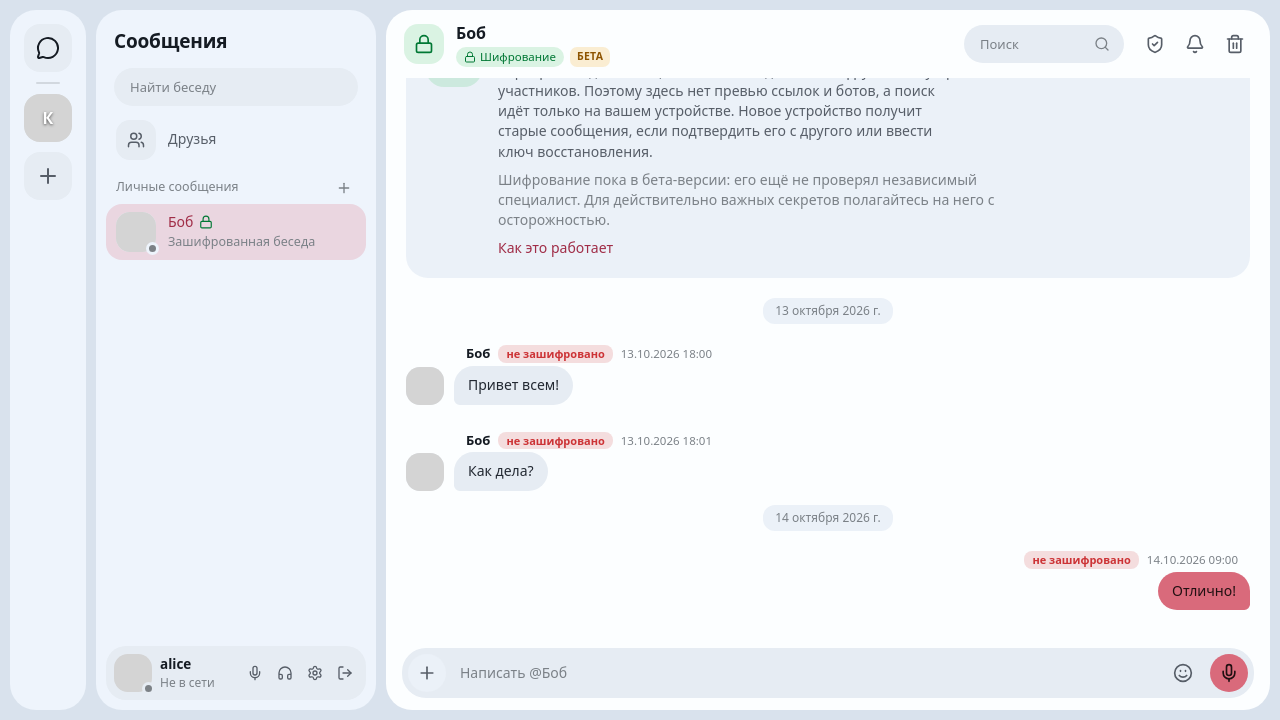
Test: profile card › in an encrypted DM, offers the plain one but not another encrypted one
Click the button "Боб" in the row of "13.10.2026 18:01" at (478, 440), box [466,430,490,449]
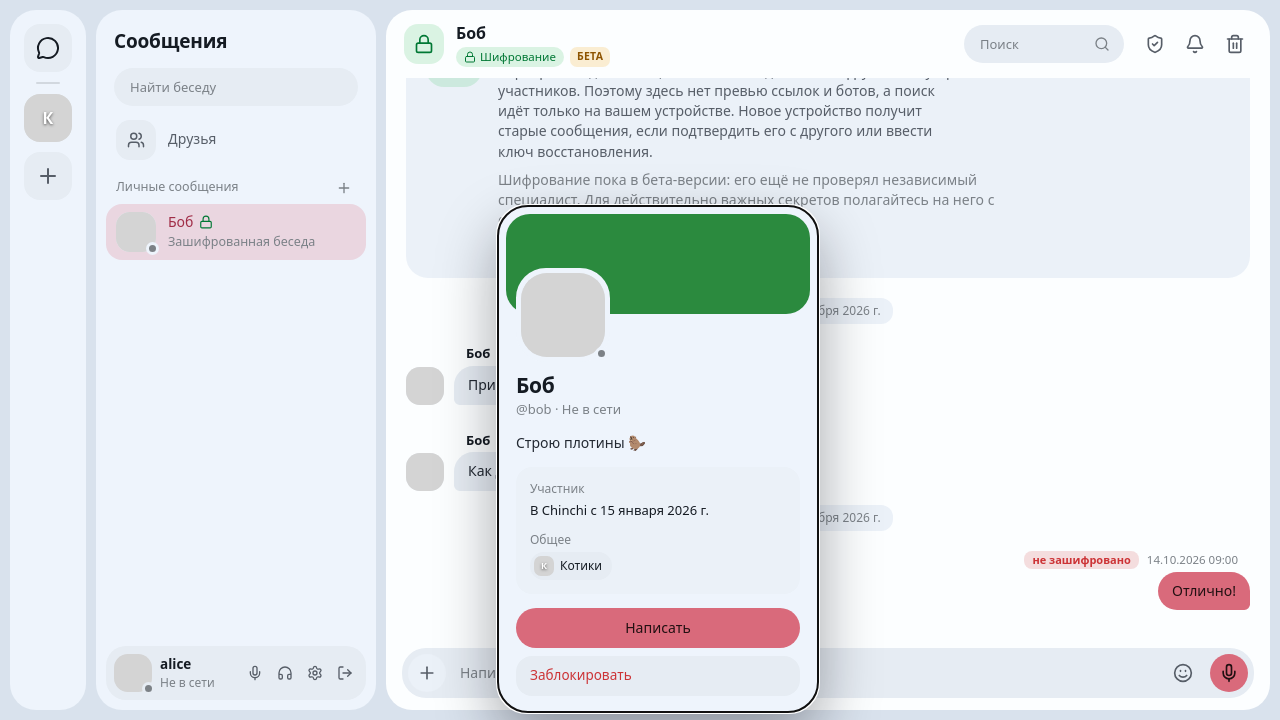
Result: the button "Написать" is shown at [516,608,800,648]
